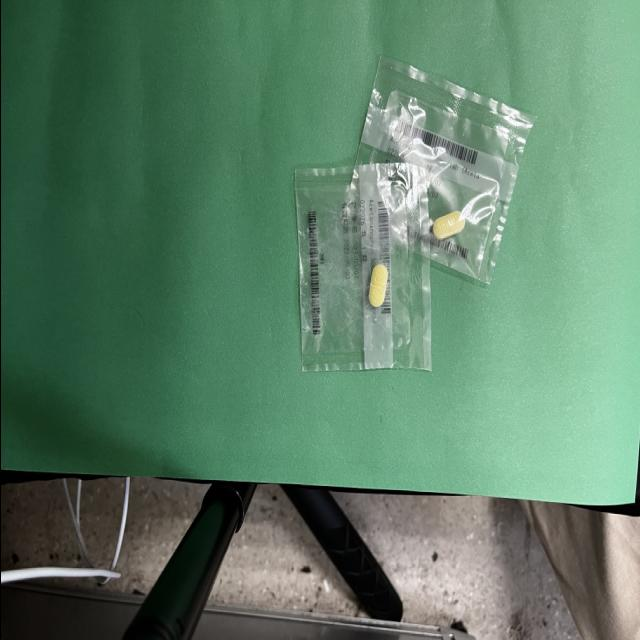Other Objects: (294, 60, 534, 371), (360, 60, 534, 283)
